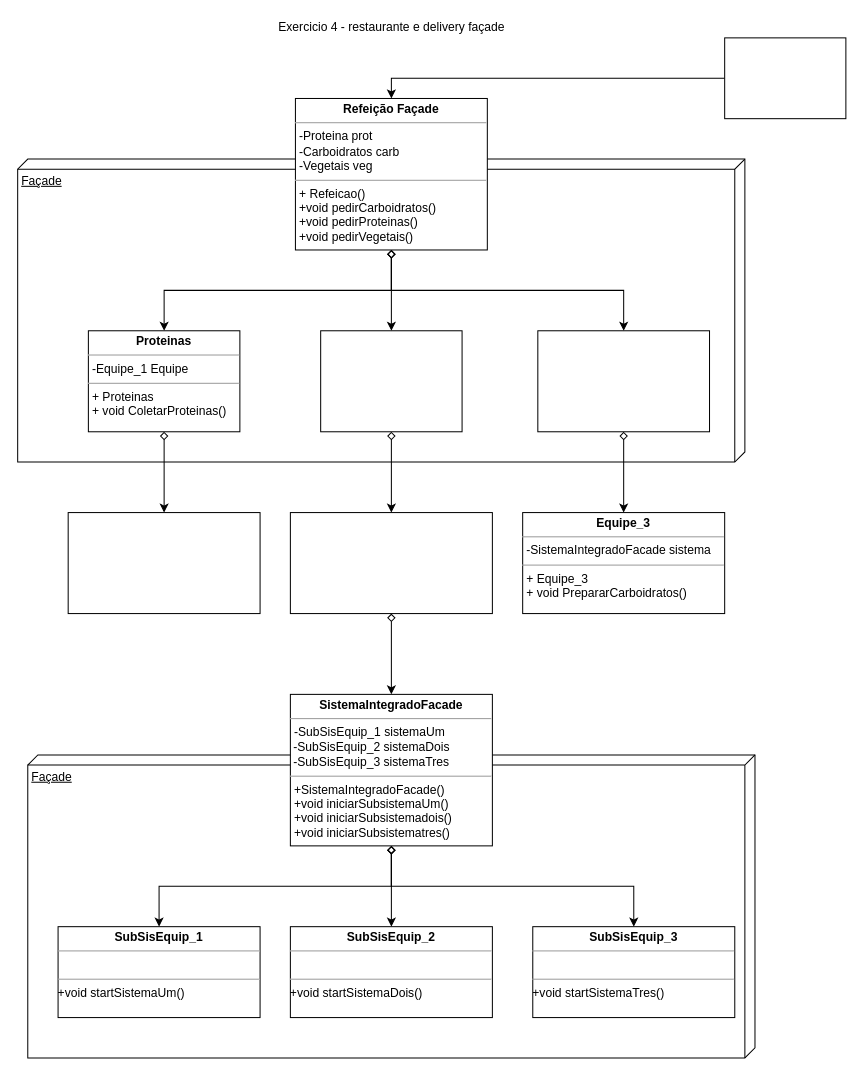
This 864x1076 diagram has some shape labels left out. The shapes that lost their labels are listed below. From the top down, each one's centre as x and y in pixels, then its label:
At point (785, 78): "Cliente Pedir()".
At point (391, 381): "Vegetais -Equipe_2 Equipe + Vegetais() + void ColetarVegetais()".
At point (623, 381): "Carboidratos -Equipe_3 Equipe + Vegetais() + void ColetarCarboidratos()".
At point (163, 563): "Equipe_1 -SistemaIntegradoFacade sistema + Equipe_1 + void PrepararProteinas()".
At point (390, 563): "Equipe_2 -SistemaIntegradoFacade sistema + Equipe_2 + void PrepararVegetais()".
